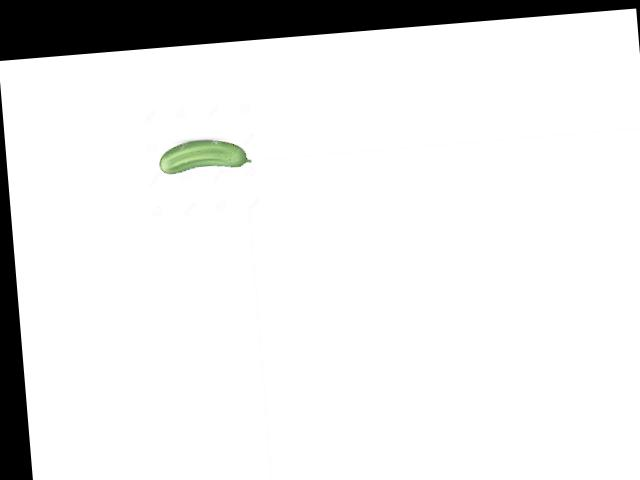cucumber: (157, 135, 251, 174)
